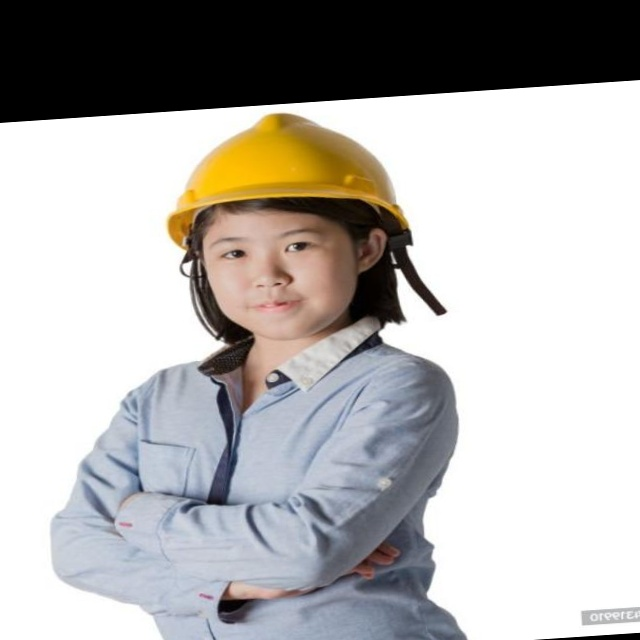Con_Casco: (161, 106, 415, 350)
Sin_Chaleco: (112, 339, 467, 640)
